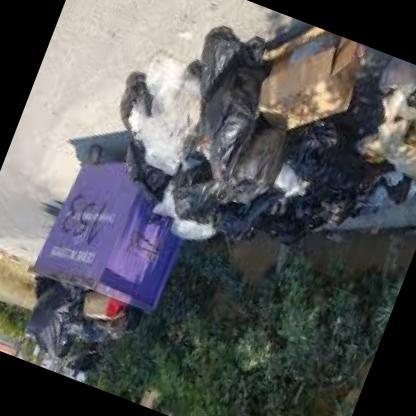Garbage: (228, 16, 366, 146), (104, 34, 219, 176), (182, 59, 268, 175), (218, 121, 285, 212), (147, 176, 222, 251), (17, 284, 88, 362), (164, 164, 230, 232), (112, 134, 177, 200), (251, 192, 306, 249), (292, 120, 349, 174), (193, 24, 233, 86), (270, 152, 315, 204), (332, 144, 378, 192), (76, 289, 126, 330), (213, 198, 254, 248), (285, 197, 325, 245), (320, 180, 355, 221), (372, 168, 409, 202), (73, 311, 110, 344), (112, 306, 141, 341), (346, 105, 370, 138)
